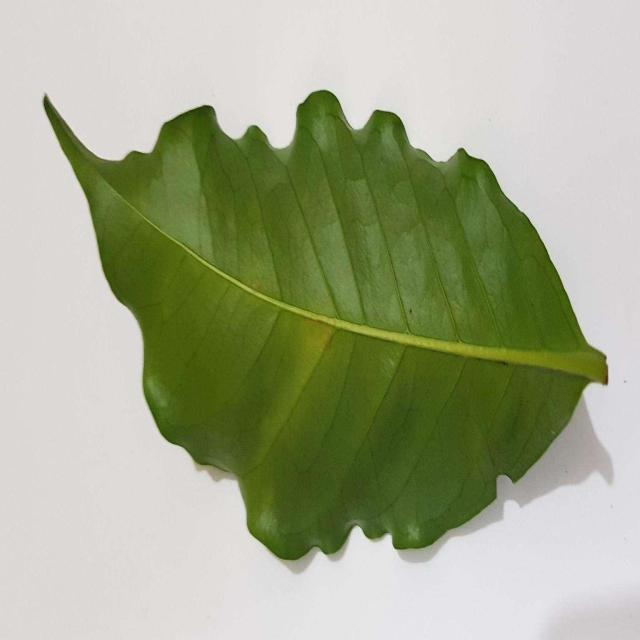nodisease: (43, 90, 608, 560)
